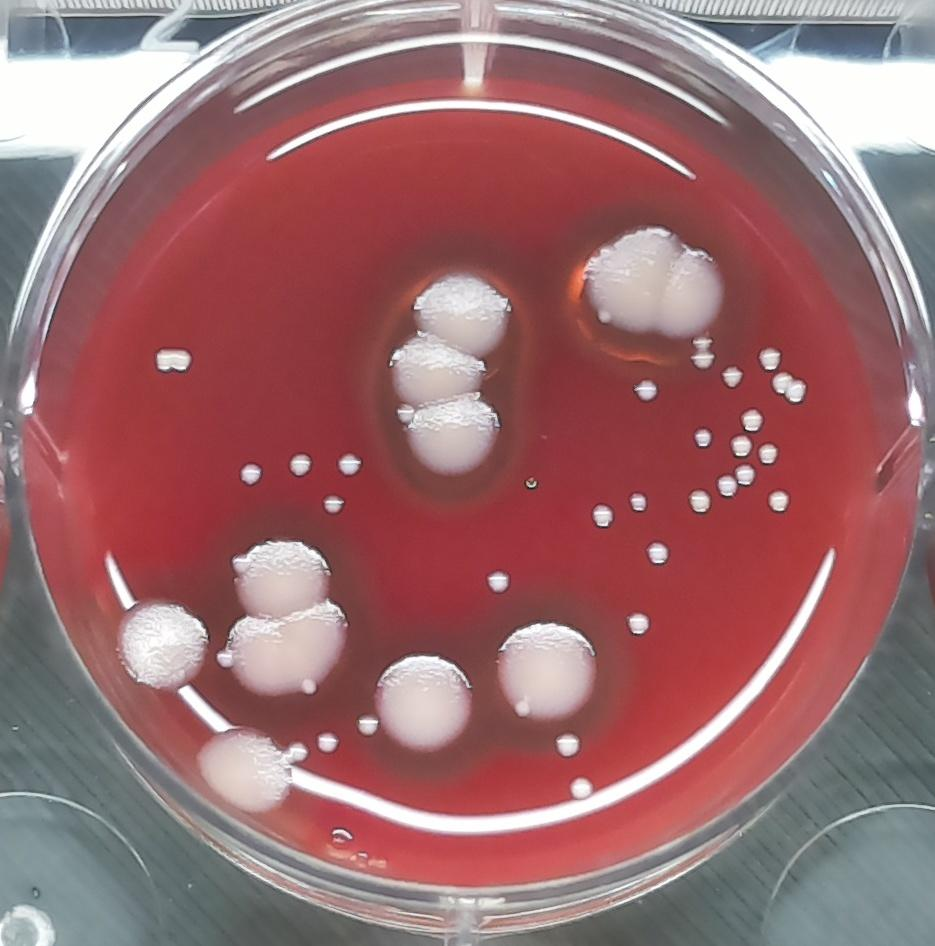staphylo-: (149, 343, 198, 378), (769, 370, 812, 408), (550, 731, 584, 762), (234, 458, 266, 490), (482, 566, 516, 596), (755, 344, 787, 375), (685, 485, 714, 519), (737, 405, 766, 438), (335, 450, 364, 481), (589, 499, 616, 531), (642, 539, 671, 568), (284, 449, 312, 479), (633, 376, 662, 404), (713, 472, 742, 500), (354, 710, 382, 739), (764, 488, 792, 516), (624, 609, 651, 638), (567, 772, 594, 801), (754, 439, 781, 467), (727, 432, 754, 460), (731, 461, 757, 489), (320, 490, 346, 516), (316, 731, 342, 757), (625, 489, 650, 515), (720, 364, 745, 390), (394, 401, 418, 427), (287, 738, 311, 763), (693, 425, 715, 452), (214, 648, 237, 671), (300, 676, 318, 698)
